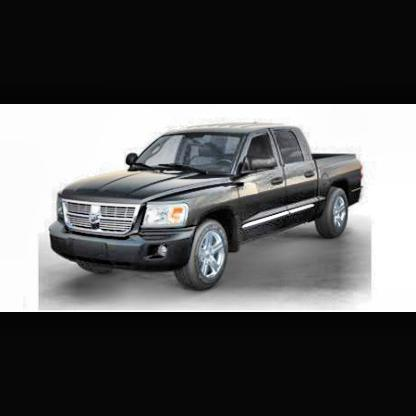Dodge Dakota Crew Cab 2010: (52, 124, 364, 295)
